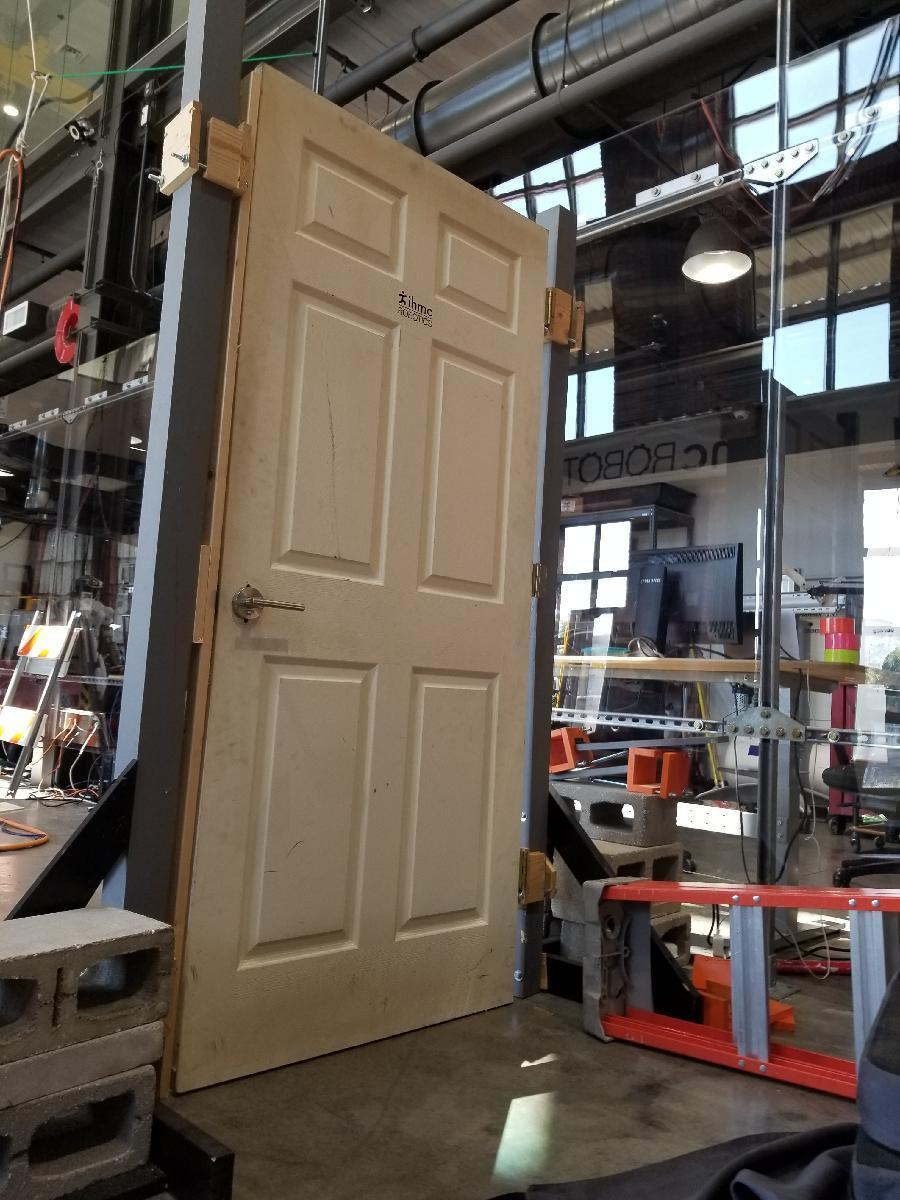door: (216, 78, 544, 1057)
handle: (234, 576, 310, 630)
